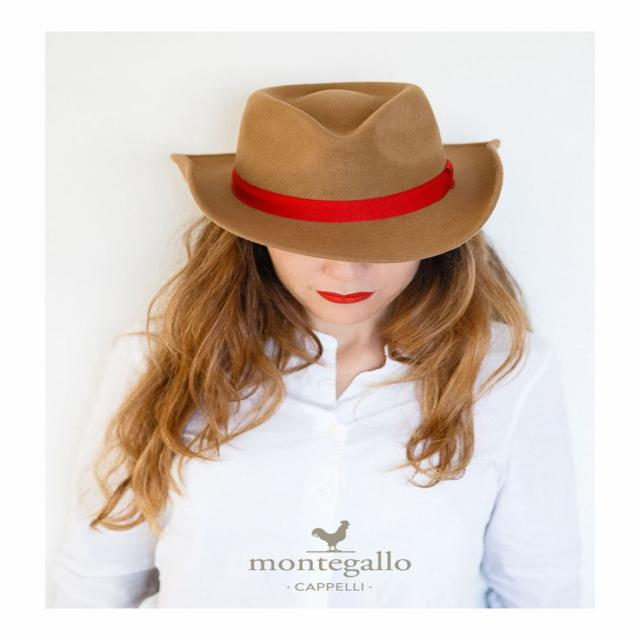hat: (139, 59, 554, 280)
